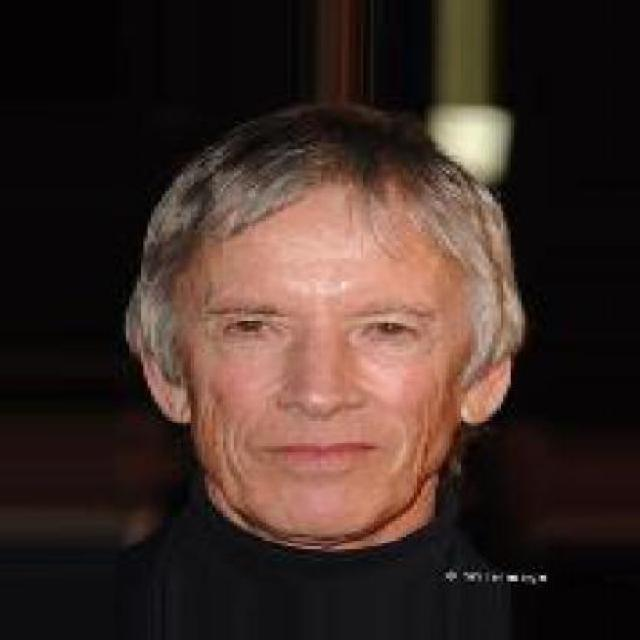closed-mouth: (248, 429, 384, 478)
